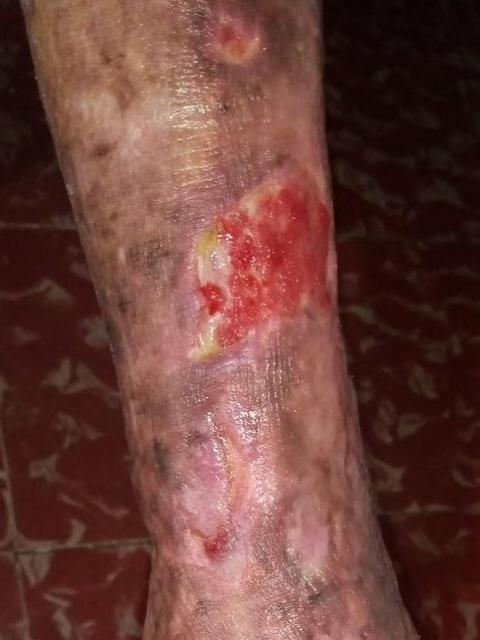wound: (188, 155, 329, 361), (193, 415, 260, 578), (209, 13, 262, 64)
